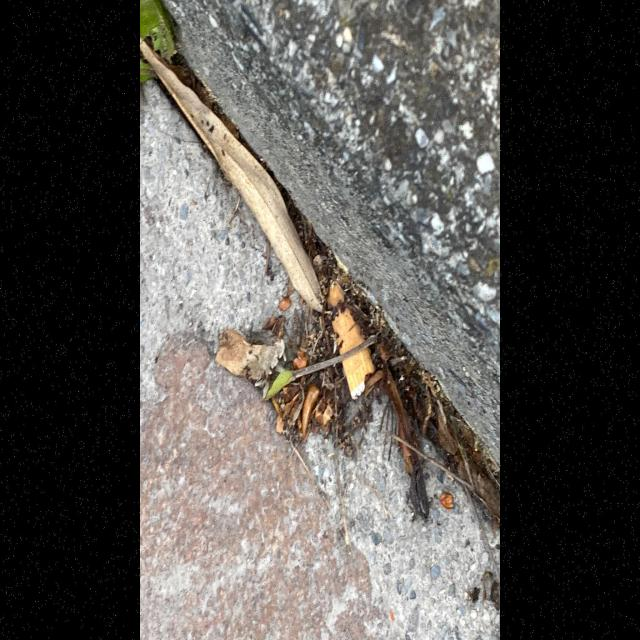other waste: (325, 280, 376, 402)
